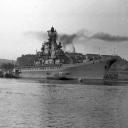Portanaves: (13, 26, 120, 82)
